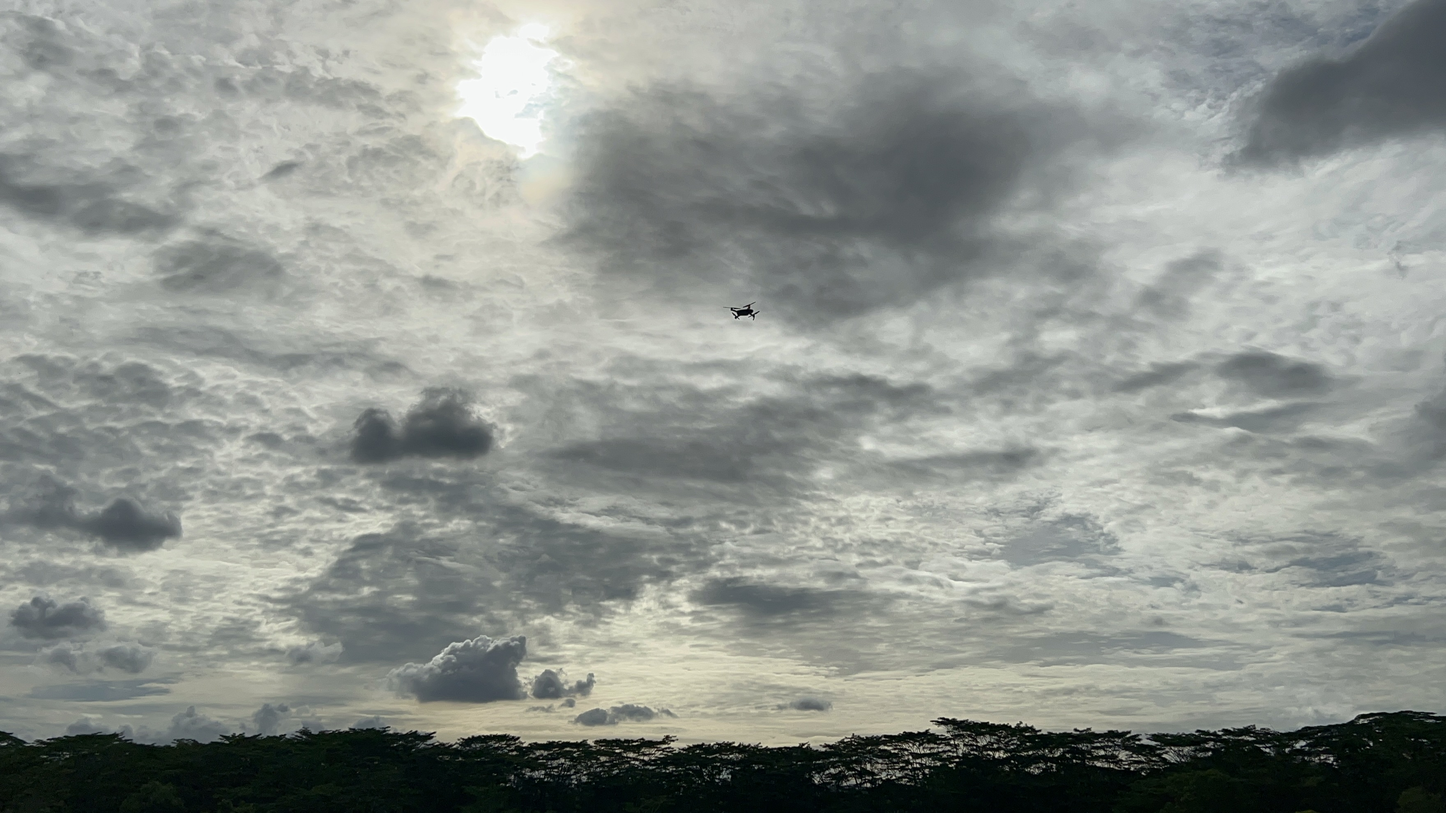drone_other: (722, 301, 761, 321)
